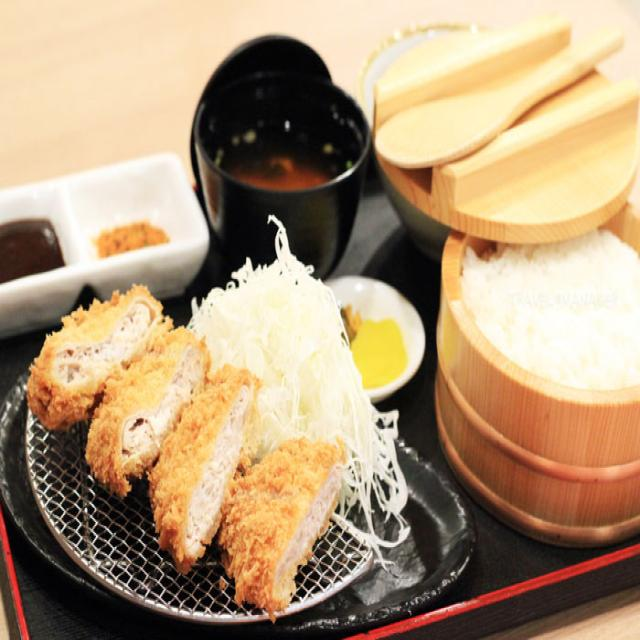carb: (462, 231, 640, 390)
meat: (29, 288, 345, 619)
vegetable: (190, 218, 409, 558)
